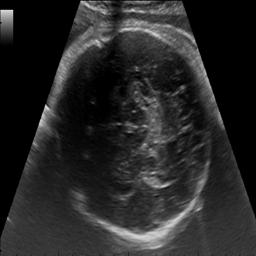normal: (46, 22, 212, 255)
